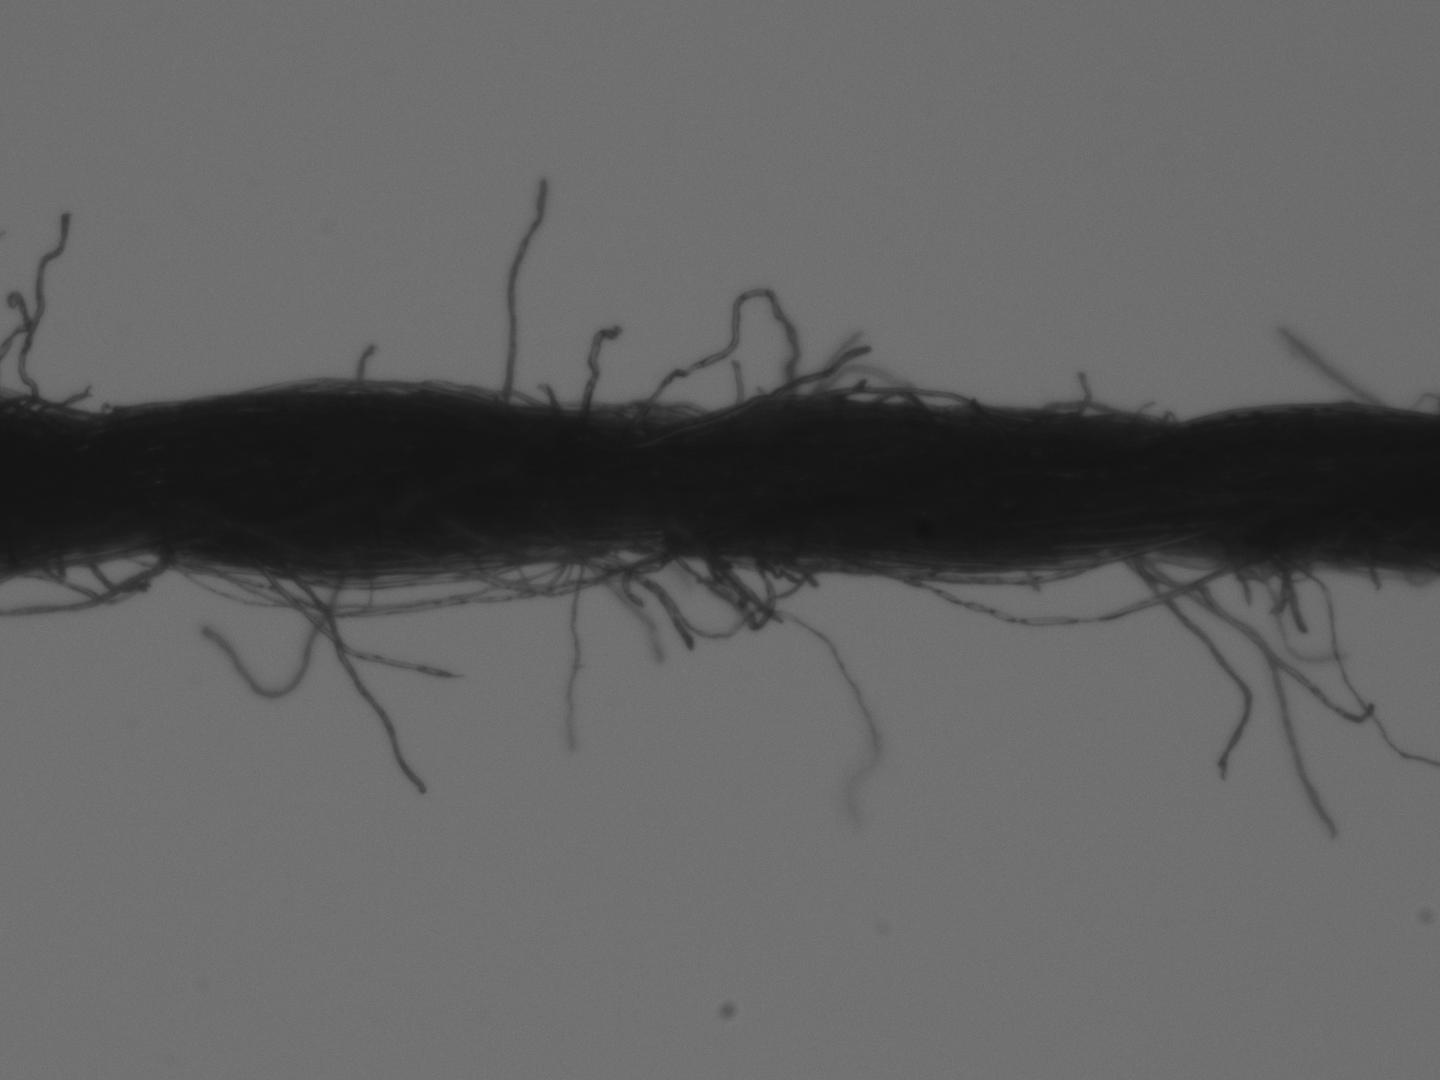loop_fiber: (838, 534, 1280, 630), (607, 280, 805, 444), (425, 540, 696, 601), (653, 546, 788, 634), (22, 538, 176, 606), (808, 379, 990, 421), (254, 567, 374, 618), (1027, 393, 1149, 436)
protruding_fiber: (490, 169, 562, 420), (576, 314, 619, 422)
